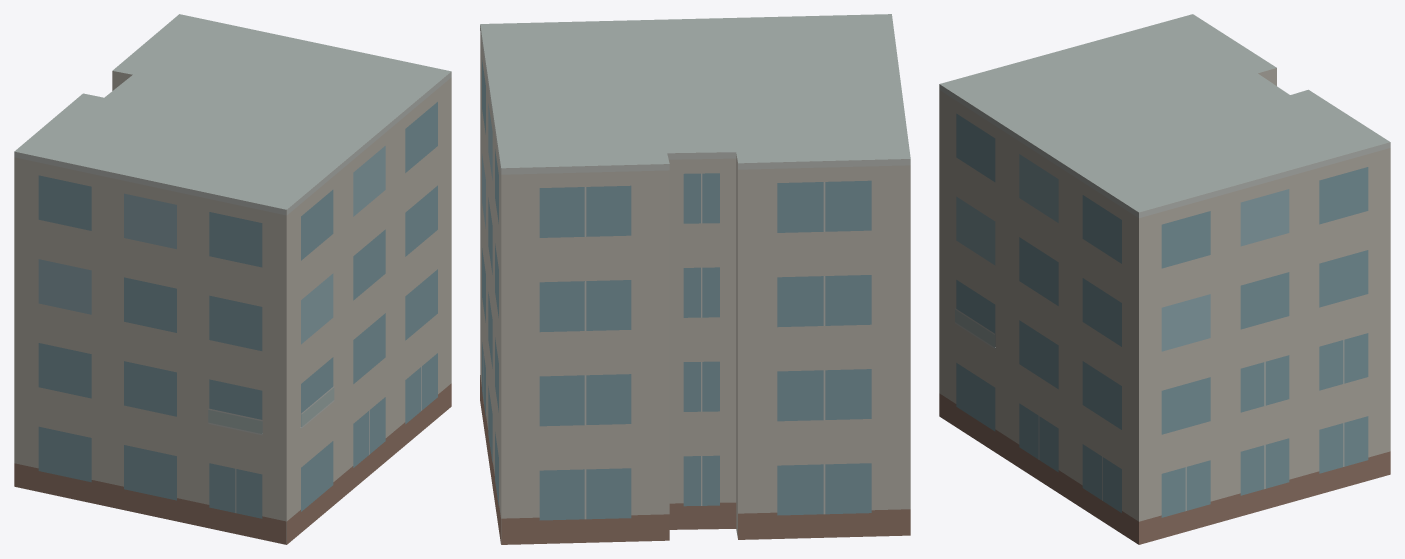
The model's file is survey-upis-32625126.glb.
3 views of the same model, side by side, from view 1: azimuth 30°, elevation 25°; view 2: azimuth 150°, elevation 25°; view 3: azimuth 270°, elevation 25° (orthographic). The views are drawn at different scales.
Visible parts, largest first — view 1: survey-upis-32625126.tmp; view 2: survey-upis-32625126.tmp; view 3: survey-upis-32625126.tmp.
Part boxes in pixels (x1,y1,x2,y2): survey-upis-32625126.tmp: (14,14,451,544); survey-upis-32625126.tmp: (480,14,910,544); survey-upis-32625126.tmp: (939,14,1390,544).
Bounding box in the file's own units: 18.2 × 14.2 × 17.48.
